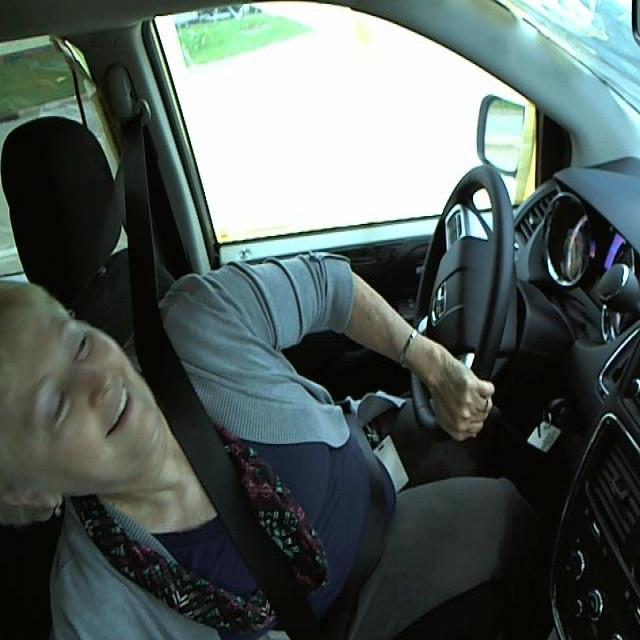seatbelt: (138, 371, 378, 638)
